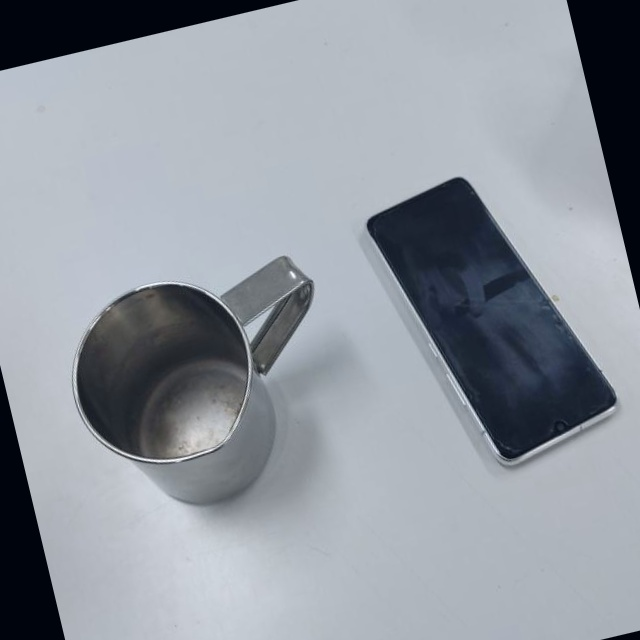cup: (52, 246, 359, 531)
phone: (358, 152, 630, 489)
